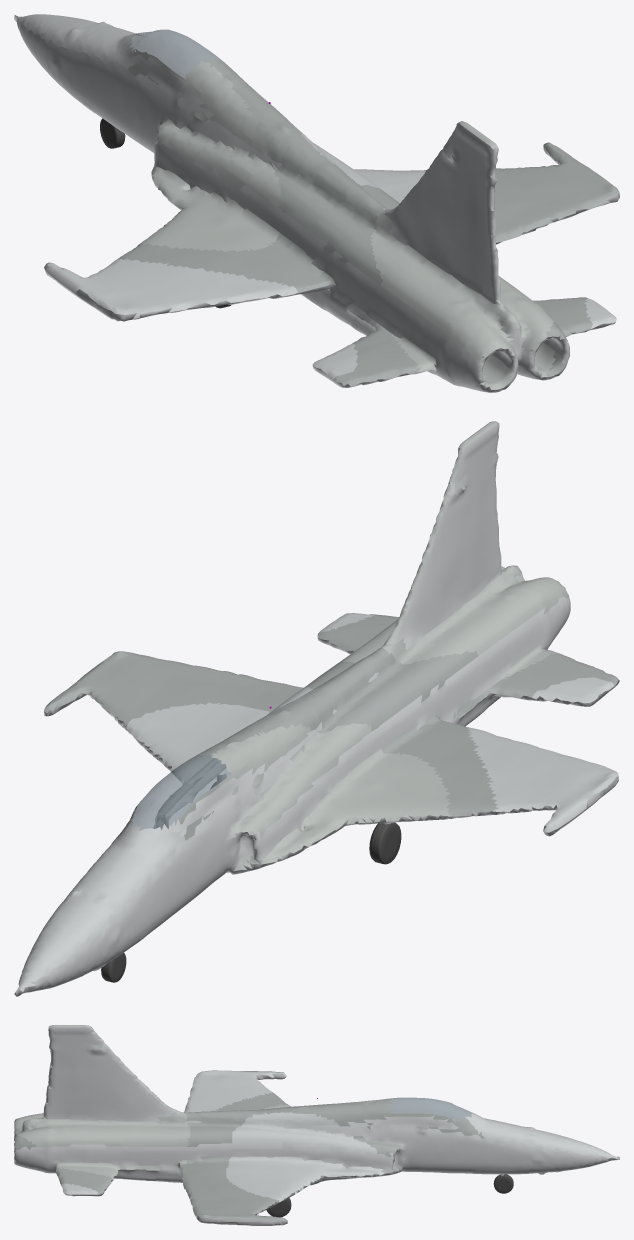
File: Aeronave_F5.glb
3 renders of one model, top to bottom at view 1: azimuth 30°, elevation 25°; view 2: azimuth 150°, elevation 25°; view 3: azimuth 270°, elevation 25°, orthographic. The views are drawn at different scales.
Visible parts, largest first — view 1: Ventre3@SmoothPlastic@B2B8BC, CamuflagemB2@SmoothPlastic@606866, CamuflagemA3@SmoothPlastic@78807C, Ventre1@SmoothPlastic@B2B8BC, CamuflagemA1@SmoothPlastic@78807C, CamuflagemC2@SmoothPlastic@92989A, CamuflagemB3@SmoothPlastic@606866, CamuflagemC1@SmoothPlastic@92989A, Ventre2@SmoothPlastic@B2B8BC, CamuflagemA2@SmoothPlastic@78807C, CamuflagemB1@SmoothPlastic@606866, Capota1@Glass@28343C@0.35 (+2 smaller); view 2: CamuflagemB2@SmoothPlastic@606866, Ventre3@SmoothPlastic@B2B8BC, Ventre1@SmoothPlastic@B2B8BC, CamuflagemA1@SmoothPlastic@78807C, CamuflagemC1@SmoothPlastic@92989A, CamuflagemC2@SmoothPlastic@92989A, CamuflagemA3@SmoothPlastic@78807C, CamuflagemB3@SmoothPlastic@606866, CamuflagemA2@SmoothPlastic@78807C, Capota1@Glass@28343C@0.35, CamuflagemB1@SmoothPlastic@606866, Ventre2@SmoothPlastic@B2B8BC (+2 smaller); view 3: Ventre3@SmoothPlastic@B2B8BC, Ventre1@SmoothPlastic@B2B8BC, CamuflagemC1@SmoothPlastic@92989A, CamuflagemB2@SmoothPlastic@606866, CamuflagemC2@SmoothPlastic@92989A, CamuflagemA3@SmoothPlastic@78807C, CamuflagemB1@SmoothPlastic@606866, Ventre2@SmoothPlastic@B2B8BC, Capota1@Glass@28343C@0.35, CamuflagemB3@SmoothPlastic@606866, TremPneus@Rubber@141414, CamuflagemC3@SmoothPlastic@92989A.
Boxes of the visible parts, left/top/right/bottom form: Ventre3@SmoothPlastic@B2B8BC: left=283, top=123, right=615, bottom=392; CamuflagemB2@SmoothPlastic@606866: left=117, top=142, right=619, bottom=292; CamuflagemA3@SmoothPlastic@78807C: left=370, top=121, right=555, bottom=389; Ventre1@SmoothPlastic@B2B8BC: left=14, top=15, right=546, bottom=275; CamuflagemA1@SmoothPlastic@78807C: left=137, top=60, right=274, bottom=245; CamuflagemC2@SmoothPlastic@92989A: left=45, top=144, right=419, bottom=319; CamuflagemB3@SmoothPlastic@606866: left=298, top=215, right=592, bottom=386; CamuflagemC1@SmoothPlastic@92989A: left=16, top=14, right=426, bottom=269; Ventre2@SmoothPlastic@B2B8BC: left=46, top=150, right=619, bottom=321; CamuflagemA2@SmoothPlastic@78807C: left=151, top=171, right=386, bottom=251; CamuflagemB1@SmoothPlastic@606866: left=128, top=41, right=550, bottom=252; Capota1@Glass@28343C@0.35: left=129, top=29, right=224, bottom=79; CamuflagemB2@SmoothPlastic@606866: left=47, top=648, right=498, bottom=812; Ventre3@SmoothPlastic@B2B8BC: left=317, top=423, right=619, bottom=726; Ventre1@SmoothPlastic@B2B8BC: left=14, top=707, right=554, bottom=996; CamuflagemA1@SmoothPlastic@78807C: left=212, top=723, right=451, bottom=870; CamuflagemC1@SmoothPlastic@92989A: left=14, top=702, right=554, bottom=993; CamuflagemC2@SmoothPlastic@92989A: left=125, top=686, right=618, bottom=829; CamuflagemA3@SmoothPlastic@78807C: left=343, top=421, right=568, bottom=679; CamuflagemB3@SmoothPlastic@606866: left=296, top=614, right=619, bottom=726; CamuflagemA2@SmoothPlastic@78807C: left=326, top=648, right=450, bottom=804; Capota1@Glass@28343C@0.35: left=131, top=754, right=231, bottom=830; CamuflagemB1@SmoothPlastic@606866: left=44, top=702, right=473, bottom=843; Ventre2@SmoothPlastic@B2B8BC: left=55, top=672, right=618, bottom=832; Ventre3@SmoothPlastic@B2B8BC: left=14, top=1027, right=182, bottom=1196; Ventre1@SmoothPlastic@B2B8BC: left=279, top=1073, right=619, bottom=1225; CamuflagemC1@SmoothPlastic@92989A: left=279, top=1072, right=618, bottom=1201; CamuflagemB2@SmoothPlastic@606866: left=182, top=1092, right=281, bottom=1222; CamuflagemC2@SmoothPlastic@92989A: left=184, top=1070, right=281, bottom=1202; CamuflagemA3@SmoothPlastic@78807C: left=14, top=1025, right=182, bottom=1178; CamuflagemB1@SmoothPlastic@606866: left=279, top=1098, right=619, bottom=1221; Ventre2@SmoothPlastic@B2B8BC: left=182, top=1073, right=281, bottom=1225; Capota1@Glass@28343C@0.35: left=390, top=1097, right=472, bottom=1119; CamuflagemB3@SmoothPlastic@606866: left=14, top=1134, right=182, bottom=1194; TremPneus@Rubber@141414: left=266, top=1174, right=513, bottom=1217; CamuflagemC3@SmoothPlastic@92989A: left=61, top=1183, right=97, bottom=1194.
Bounding box in the file's own units: 8.1 × 4.27 × 13.98.
